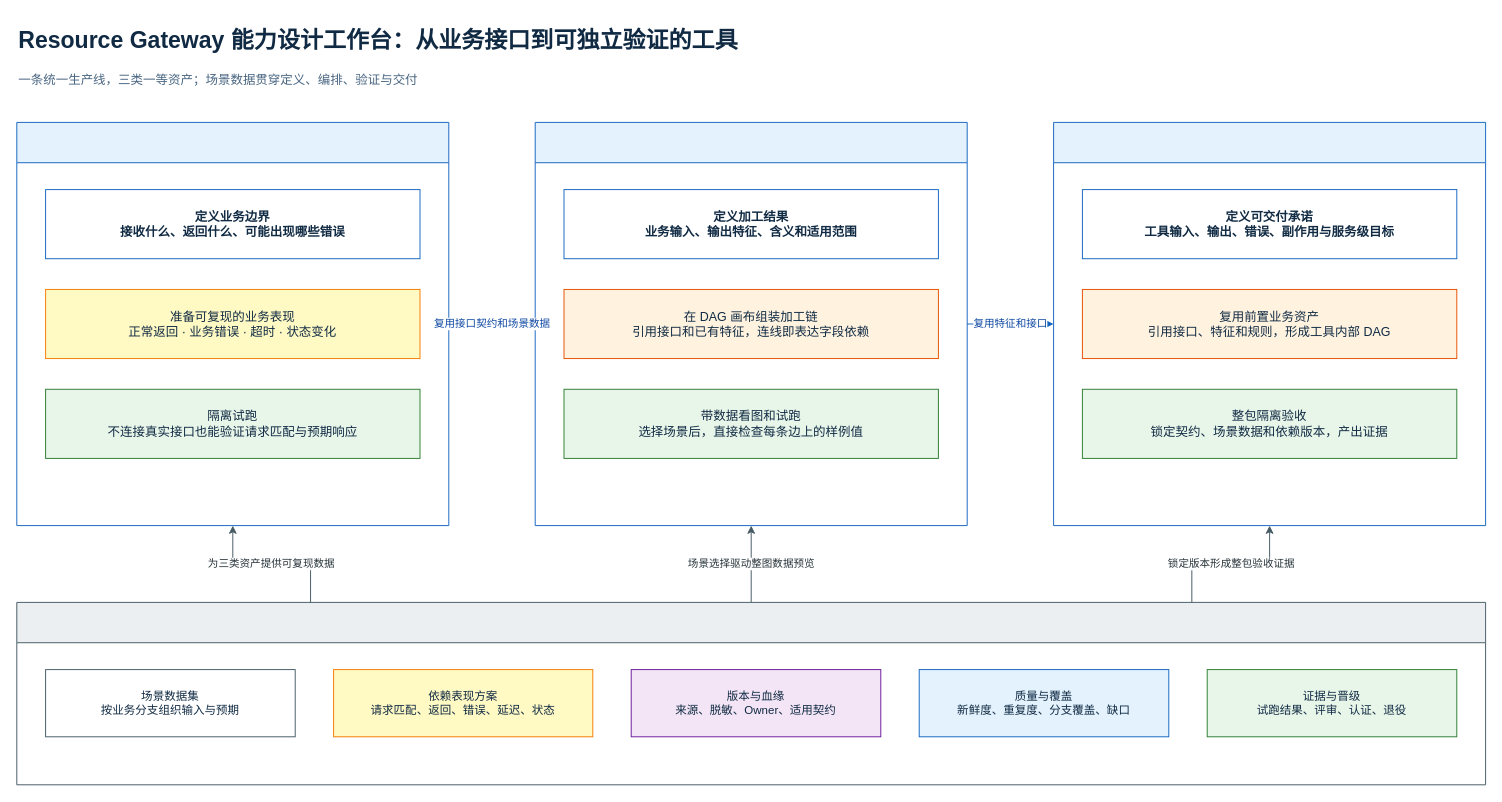
This 1502x802 diagram has some shape labels left out. Each missing label, with the box of its shape:
1 业务接口: (16, 121, 449, 526)
2 业务特征: (534, 121, 967, 526)
3 业务工具: (1053, 121, 1486, 526)
场景数据资产中心：竞争力积累的共同底座: (16, 601, 1486, 785)
